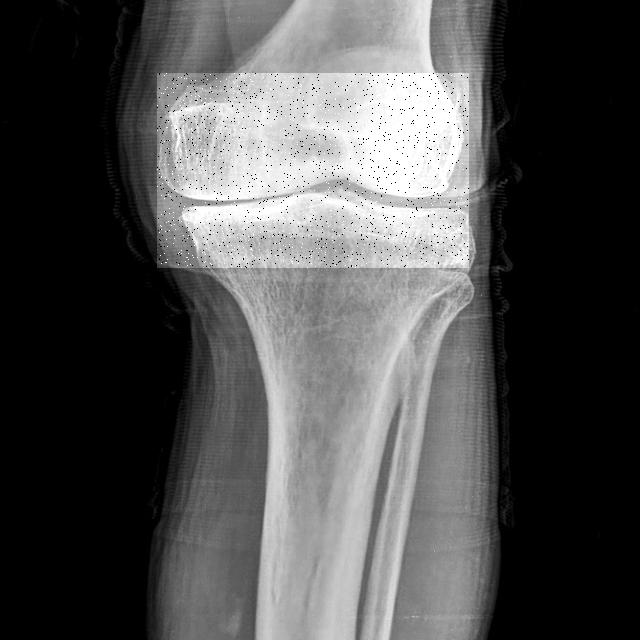normal: (157, 73, 469, 268)
